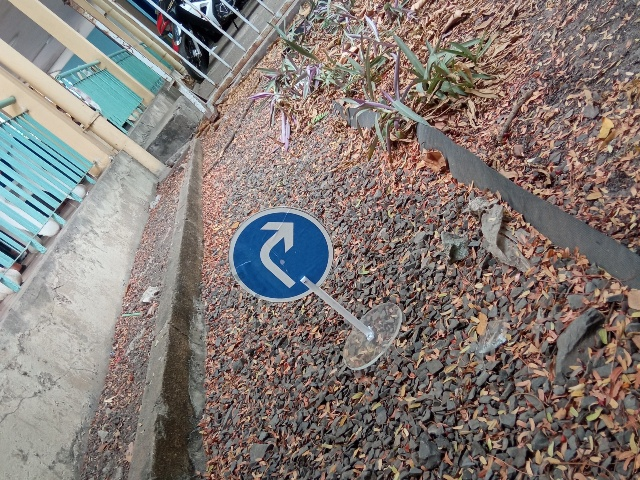Right_Sign: (230, 207, 333, 303)
